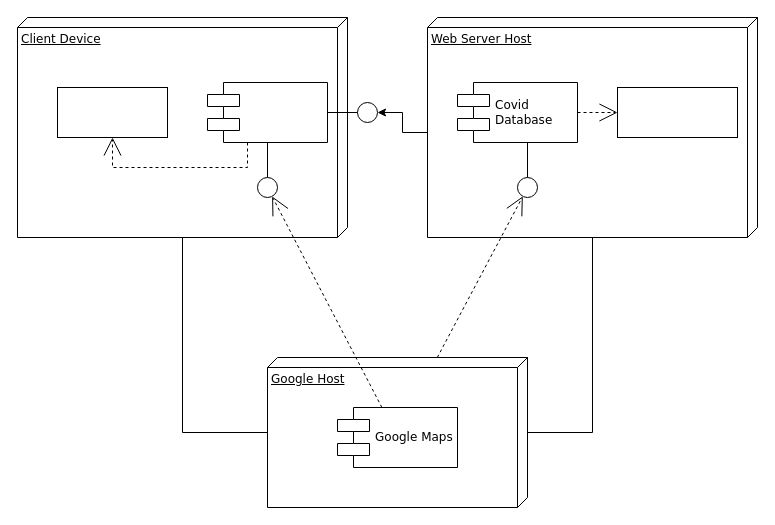
Image size: 775x525. Some labels were removed from this diagram. Each missing label, with the centre of its shape:
"Covid Risk App" goes at [267,112].
"«artifact» covidcases.html" goes at [677,112].
"«device» iOS" goes at [112,112].
